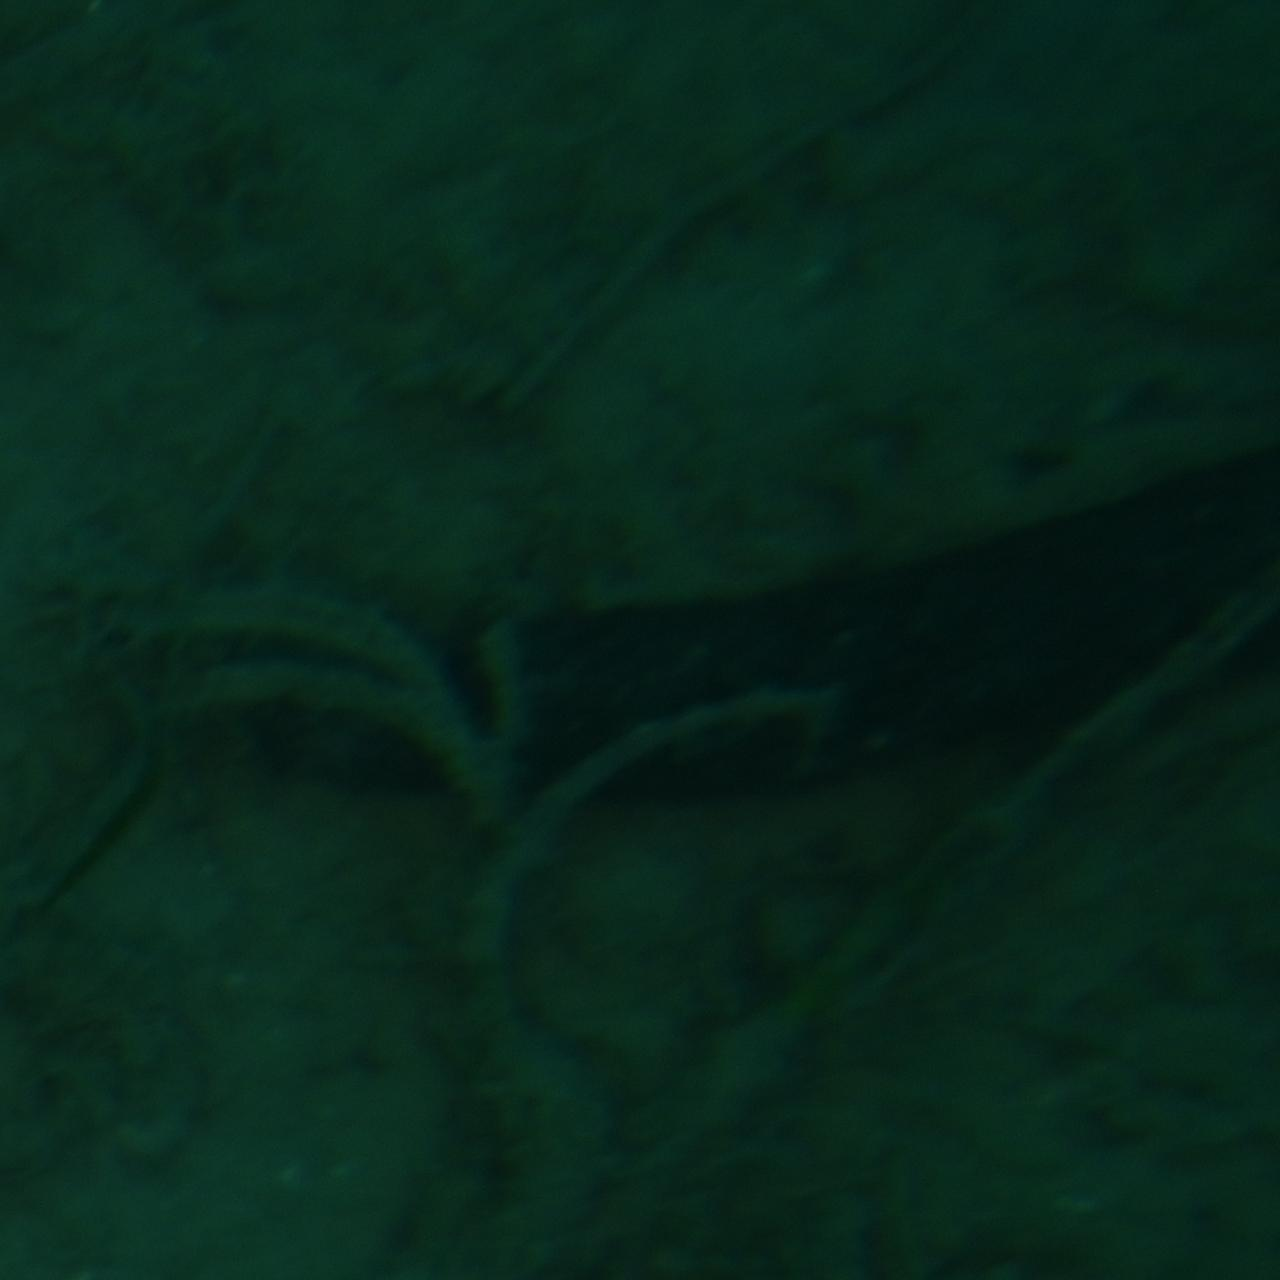Holothuria tubulosa: (231, 440, 1279, 817)
